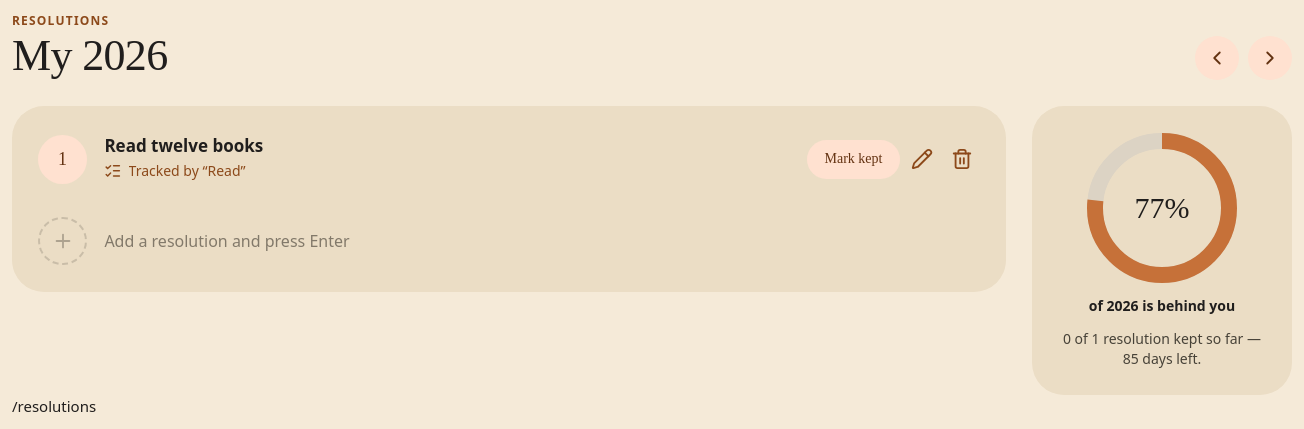
Scenario: the year › drops the link of a habit that was deleted elsewhere, and keeps the resolution
Expected: the link "Tracked by “Read”" is shown, 104,161 -> 246,181
What coordinates should you click on to do the following:
click the button named "Next year"
I would click on:
 (1270, 58)
Its box is 1248,36 -> 1292,80.
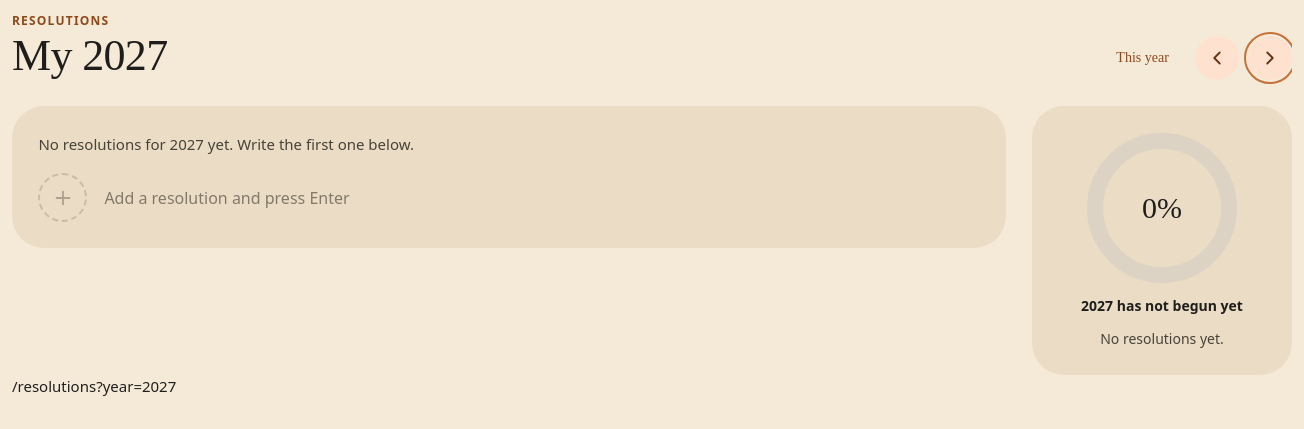
Result: the text "No resolutions for 2027 yet. Write the first one below." is shown at 38,134 -> 414,154
What coordinates should you click on to do the following:
click the button "This year"
I would click on:
 (1143, 58)
Its box is 1099,38 -> 1186,78.
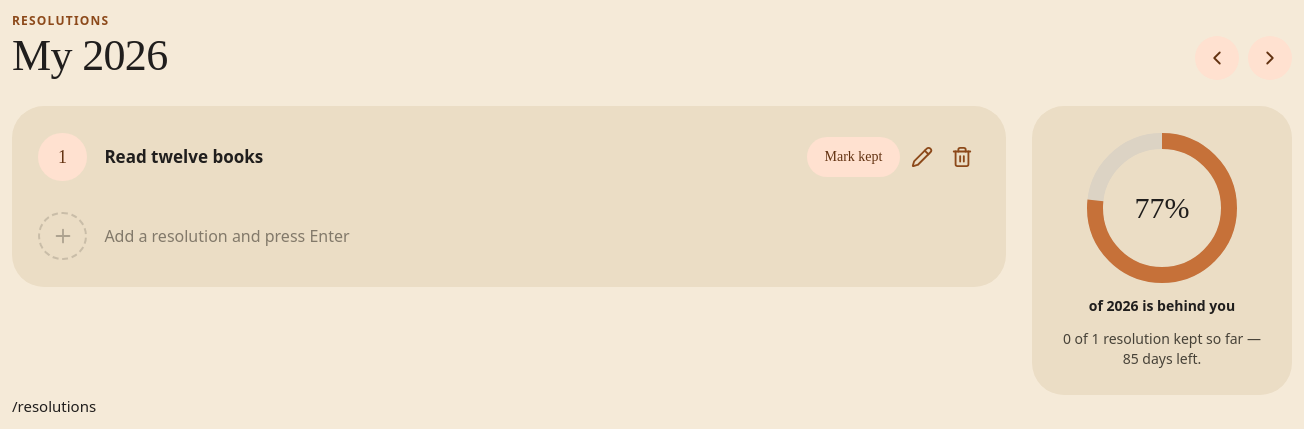
Expected: the link "Tracked by" is not shown
Result: the text "Read twelve books" is shown at 104,145 -> 263,168
